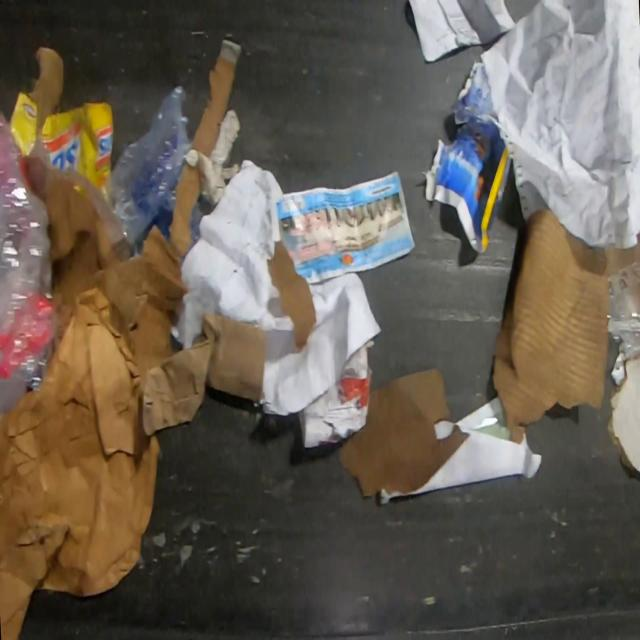cardboard: (0, 288, 161, 640), (23, 141, 204, 376), (138, 309, 267, 437), (8, 90, 115, 208), (295, 338, 376, 448), (192, 37, 242, 156), (606, 356, 640, 473), (25, 44, 66, 127)
soft_plastic: (0, 102, 58, 413), (105, 84, 195, 257), (607, 260, 640, 362), (191, 195, 215, 249)
